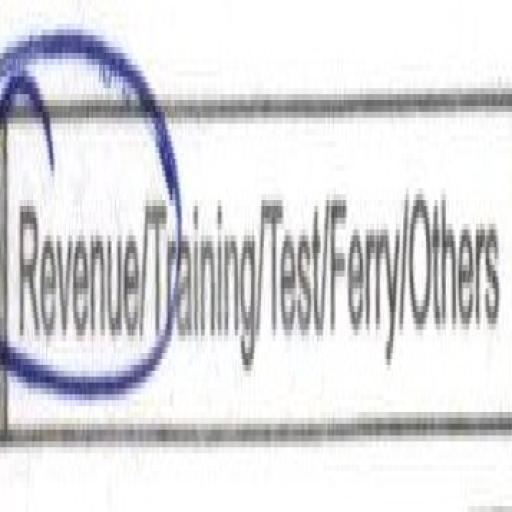check: (0, 0, 146, 453)
